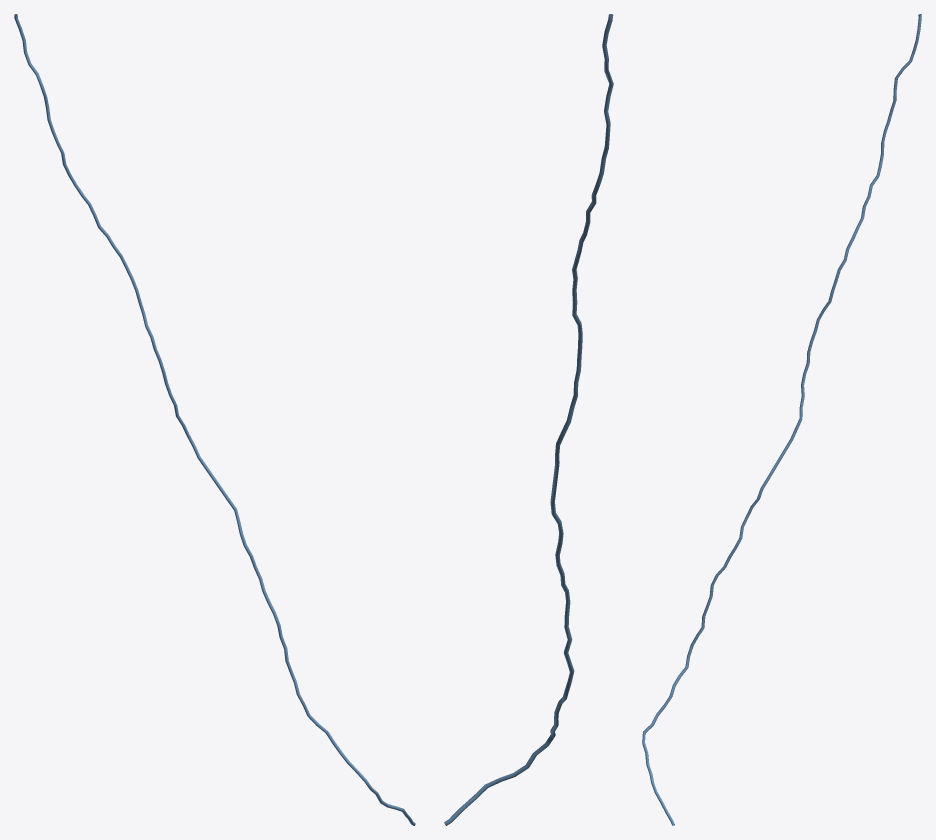
File: sweep264.fbx
The picture shows the model from 3 angles, left to right: view 1: azimuth 30°, elevation 25°; view 2: azimuth 150°, elevation 25°; view 3: azimuth 270°, elevation 25°; orthographic projection. The views are drawn at different scales.
Parts seen in each view (by area): view 1: sweep264; view 2: sweep264; view 3: sweep264.
Boxes of the visible parts, x1=… form: sweep264: x1=14, y1=14, x2=415, y2=825; sweep264: x1=444, y1=14, x2=613, y2=825; sweep264: x1=642, y1=14, x2=921, y2=825.
Bounding box in the file's own units: 1.73 × 4.85 × 1.76.
